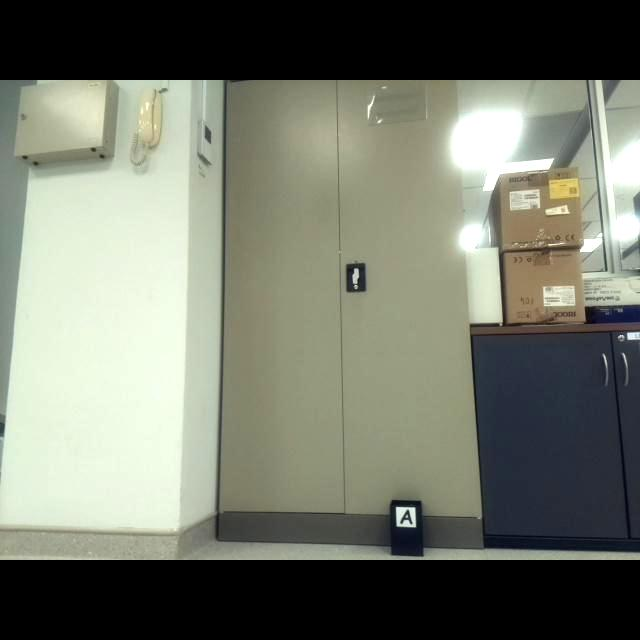A: (400, 510, 413, 525)
